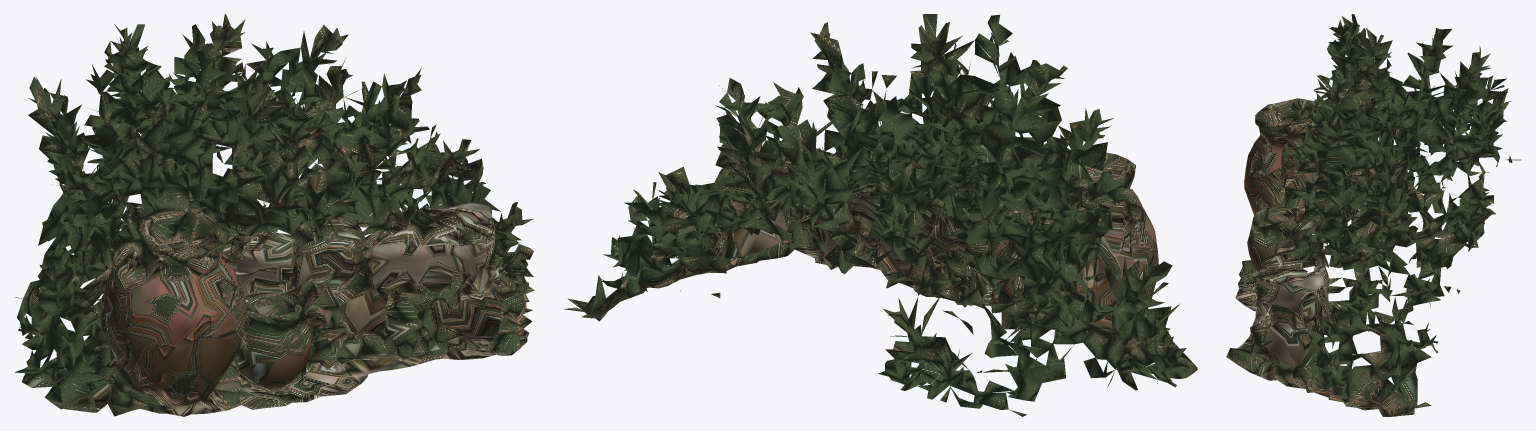
The model's file is olive-wall-cluster-a.glb.
3 renders of one model, left to right at view 1: azimuth 30°, elevation 25°; view 2: azimuth 150°, elevation 25°; view 3: azimuth 270°, elevation 25°, orthographic. The views are drawn at different scales.
Visible parts, largest first — view 1: geometry_0; view 2: geometry_0; view 3: geometry_0.
Boxes of the visible parts, left/top/right/bottom form: geometry_0: left=15, top=14, right=534, bottom=416; geometry_0: left=564, top=14, right=1197, bottom=416; geometry_0: left=1226, top=14, right=1521, bottom=416.
Bounding box in the file's own units: 2.14 × 1.25 × 1.25.
Materials: 1 (1 with a texture image).
